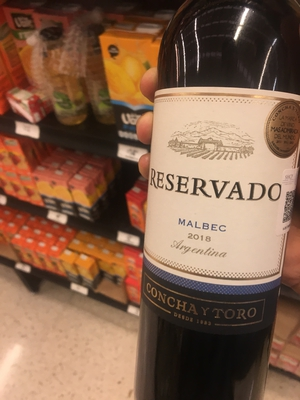reservado malbec: (135, 18, 298, 400)
